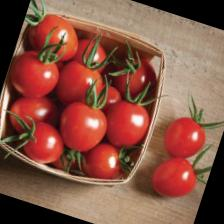tomato: (16, 0, 91, 66), (2, 42, 66, 104), (146, 148, 212, 208), (98, 90, 157, 156), (52, 96, 112, 159), (159, 99, 216, 165), (51, 54, 110, 116), (11, 116, 70, 170)
